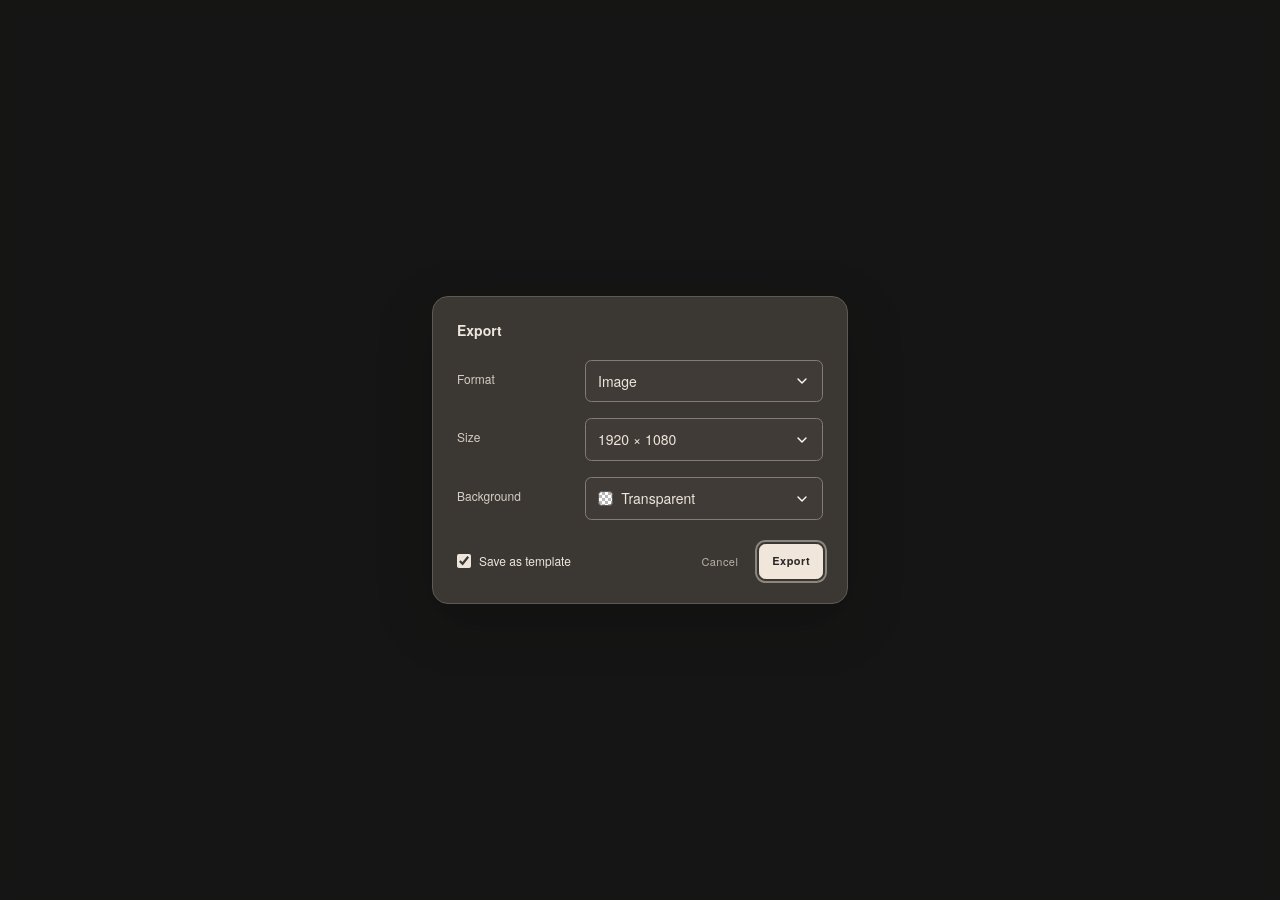
Test: ExportDialog › in Safari › copies a link to the scene, to open it in another browser
Click the button with aria-label "Format": coordinates (704, 381) [585,360,823,402]
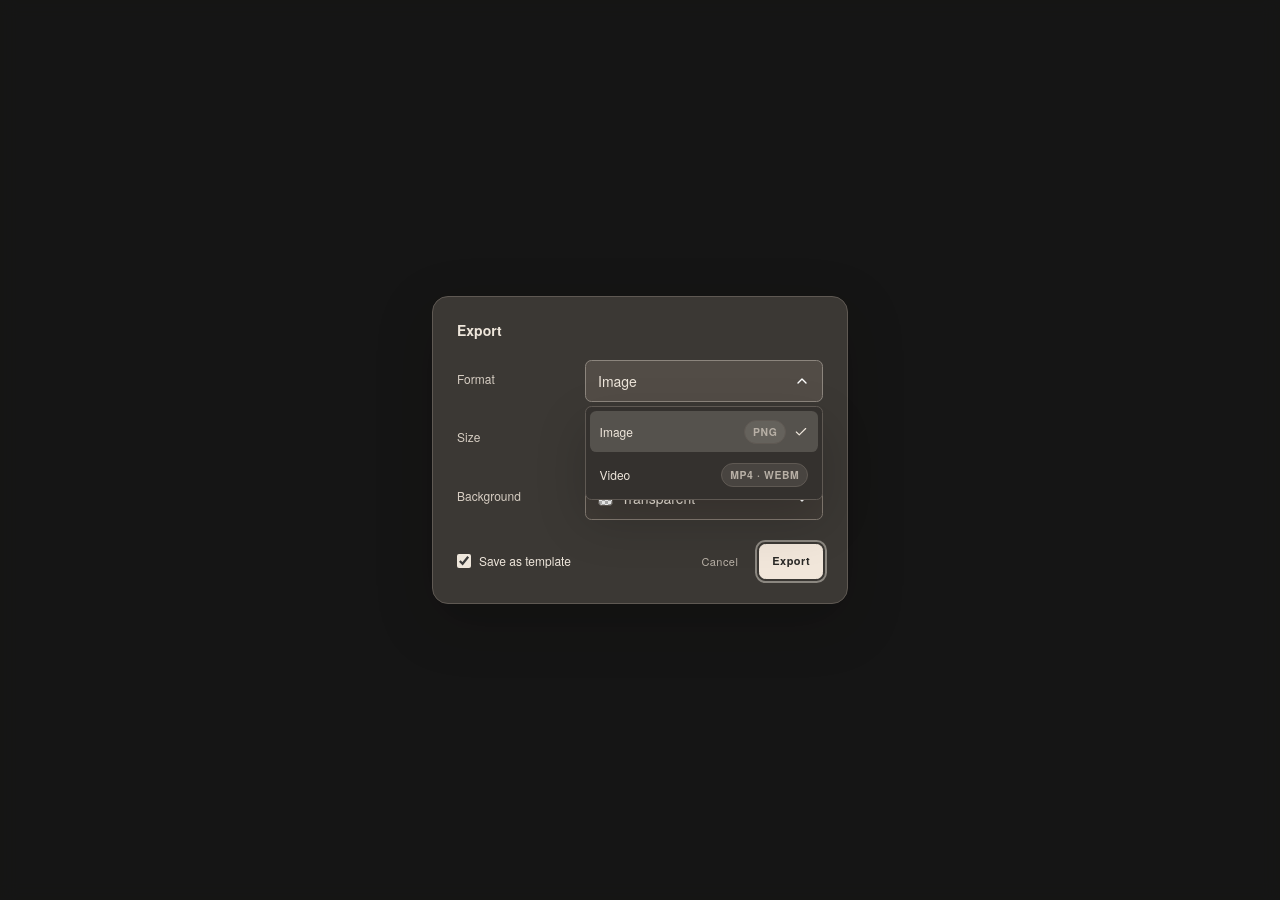
Click the option "Video MP4 · WebM": coordinates (704, 475) [590,454,818,495]
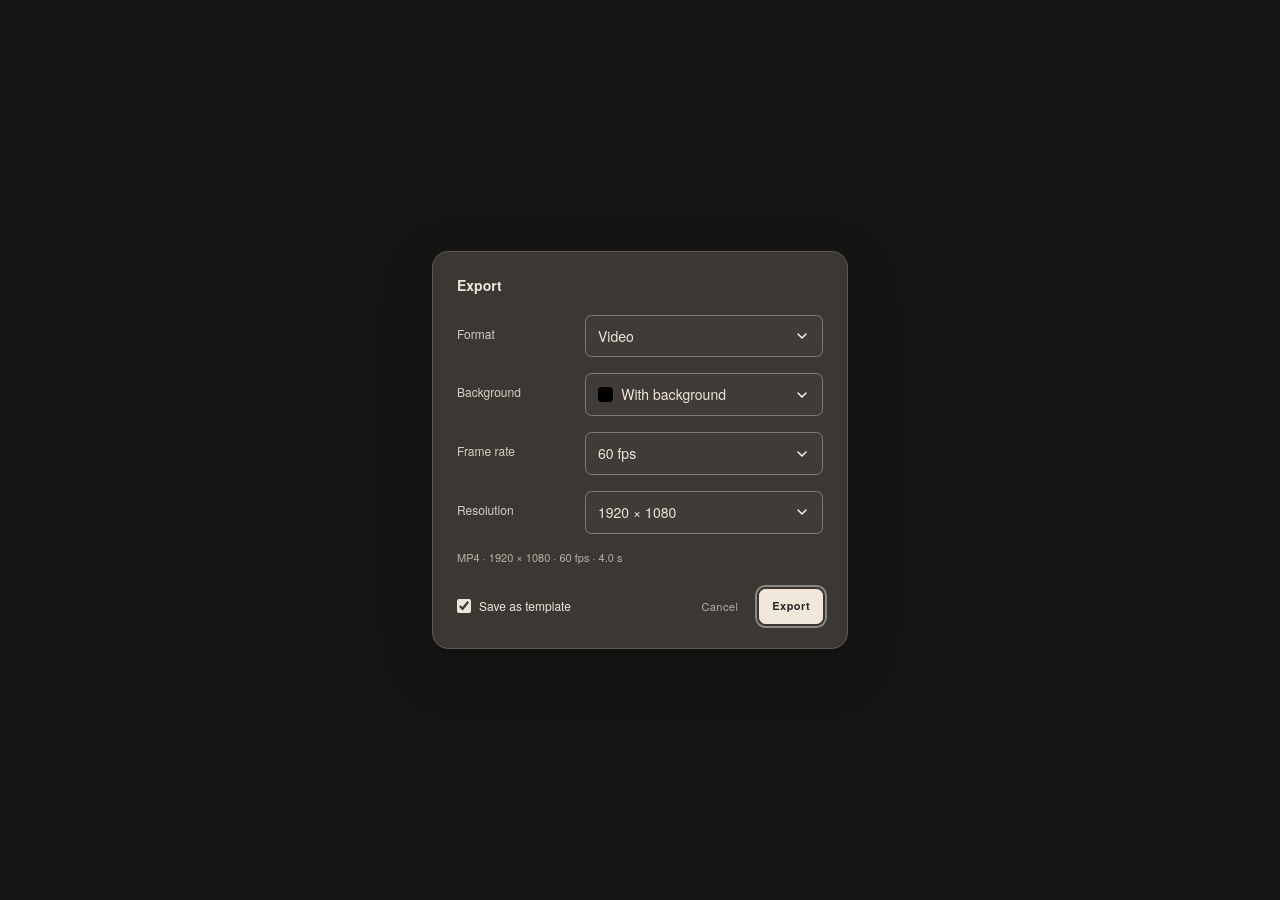
Click the button "With background": coordinates (704, 395) [585,373,823,416]
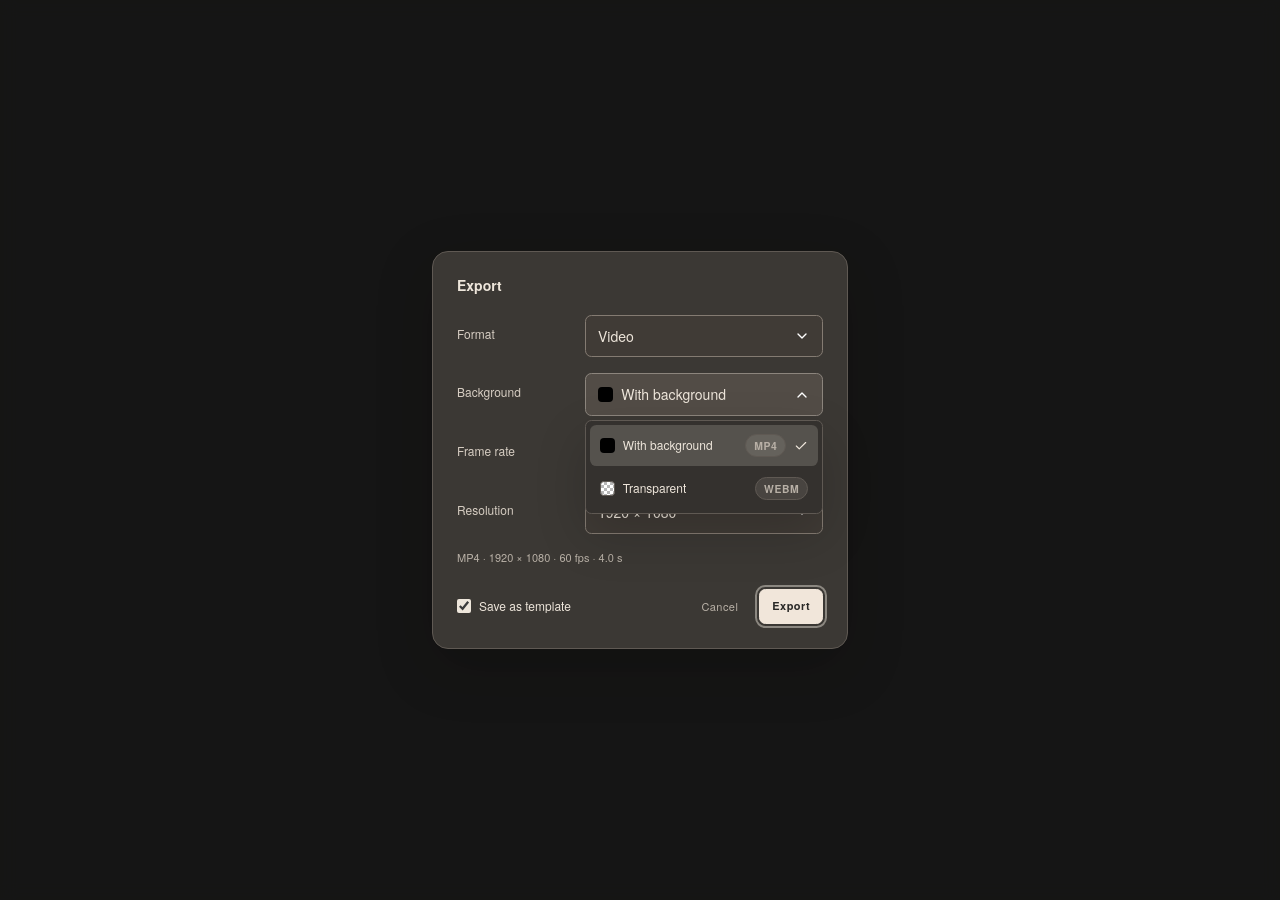
Click the option "Transparent WebM": coordinates (704, 489) [590,468,818,509]
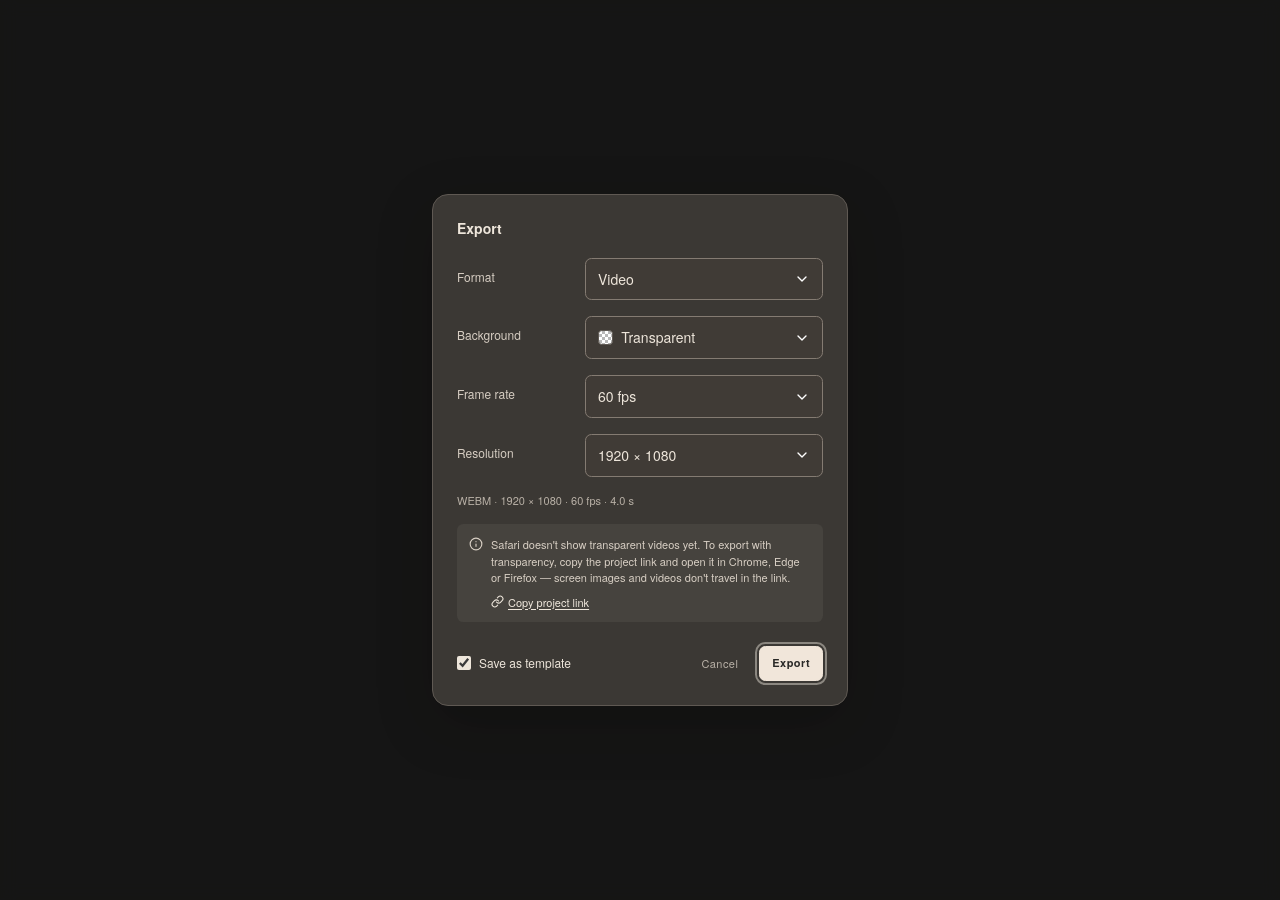
Click the button "Copy project link": coordinates (540, 602) [491,594,589,610]
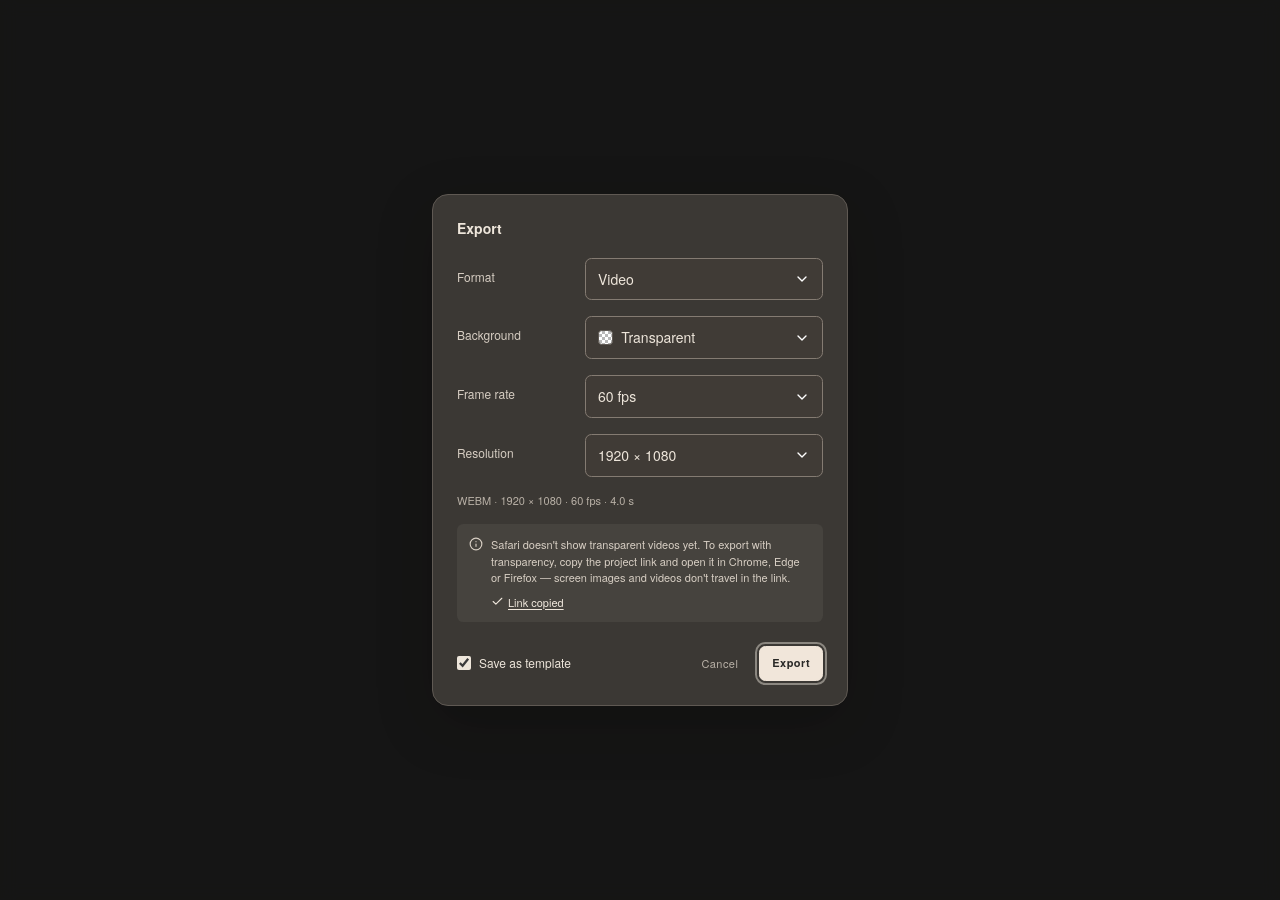
Check: the button "Link copied" is shown, box [491,594,564,610]
